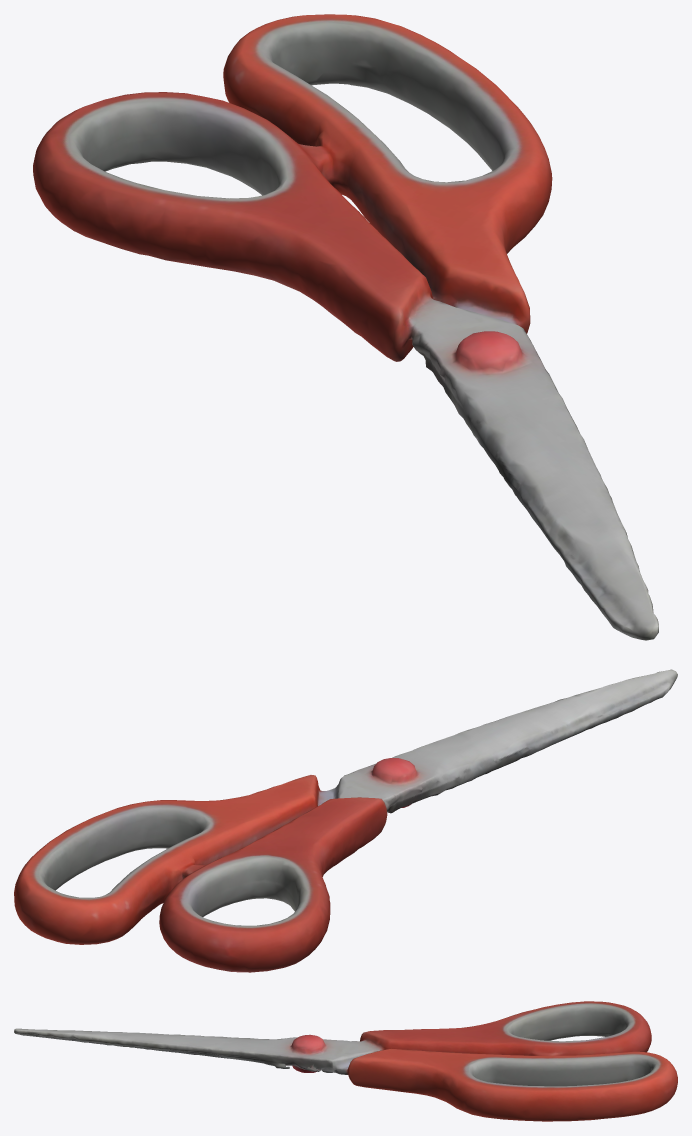
The model's file is Diamond_Visions_Scissors_Red.glb.
3 views of the same model, one above another, from view 1: azimuth 30°, elevation 25°; view 2: azimuth 150°, elevation 25°; view 3: azimuth 270°, elevation 25° (orthographic). The views are drawn at different scales.
Visible parts, largest first — view 1: Diamond_Visions_Scissors_Red; view 2: Diamond_Visions_Scissors_Red; view 3: Diamond_Visions_Scissors_Red.
Boxes of the visible parts, x1,y1,x2,y2 form: Diamond_Visions_Scissors_Red: [33, 14, 658, 640]; Diamond_Visions_Scissors_Red: [14, 669, 677, 972]; Diamond_Visions_Scissors_Red: [14, 1001, 677, 1121].
Bounding box in the file's own units: 0.0767 × 0.0146 × 0.2096.
Materials: 1 (1 with a texture image).
